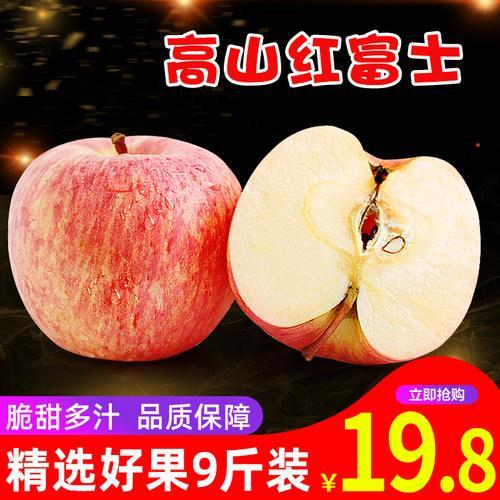apple: (227, 125, 481, 364), (9, 137, 249, 364)
